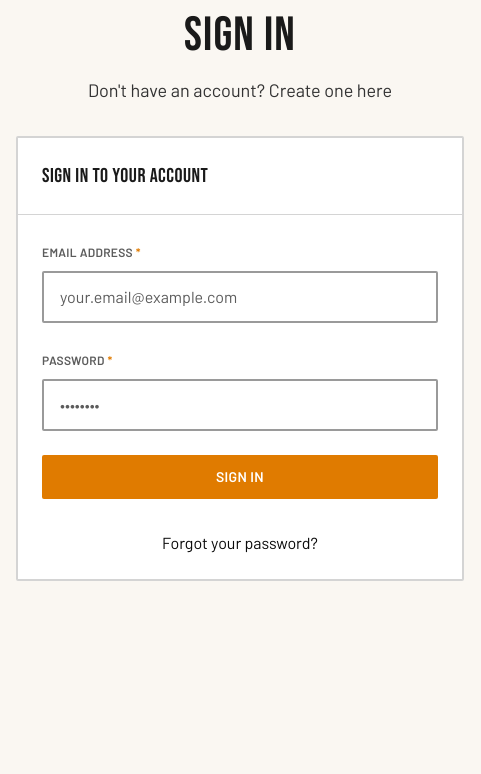
LoginPage › Email Verification › should show email verification error when user is not verified
Type "unverified@example.com" into the field labelled "Email Address *" at [240, 297], box [42, 271, 438, 323]
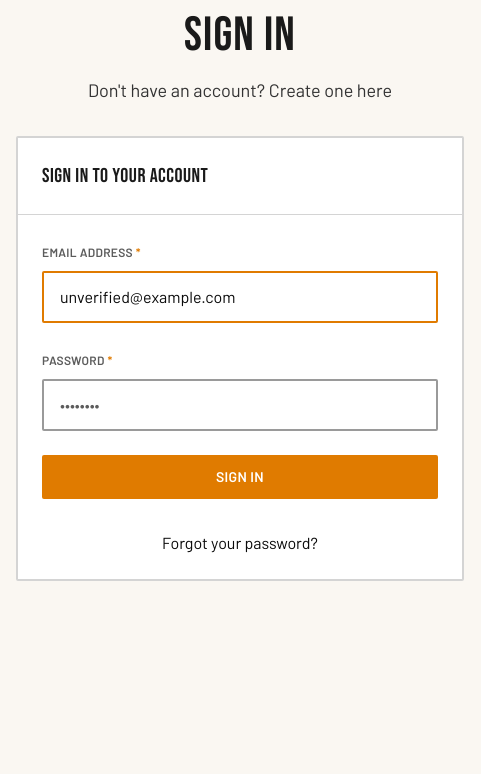
Type "password123" into the password field labelled "Password *" at [240, 405], box [42, 379, 438, 431]
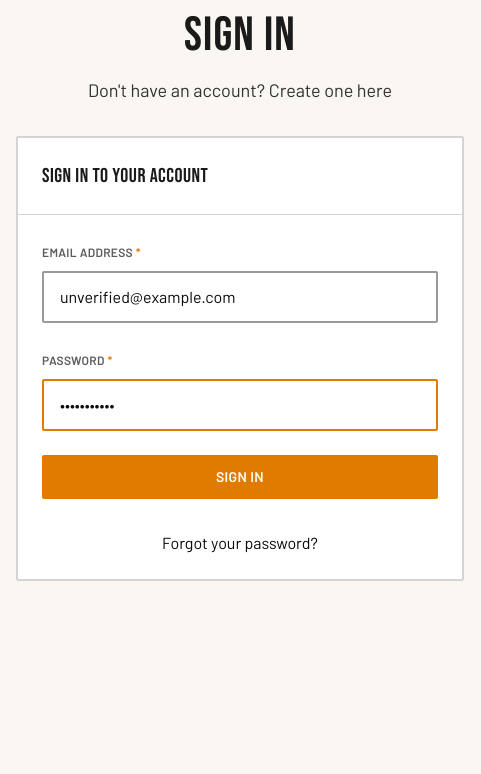
Click the button "Sign In" at [240, 477], box [42, 455, 438, 499]
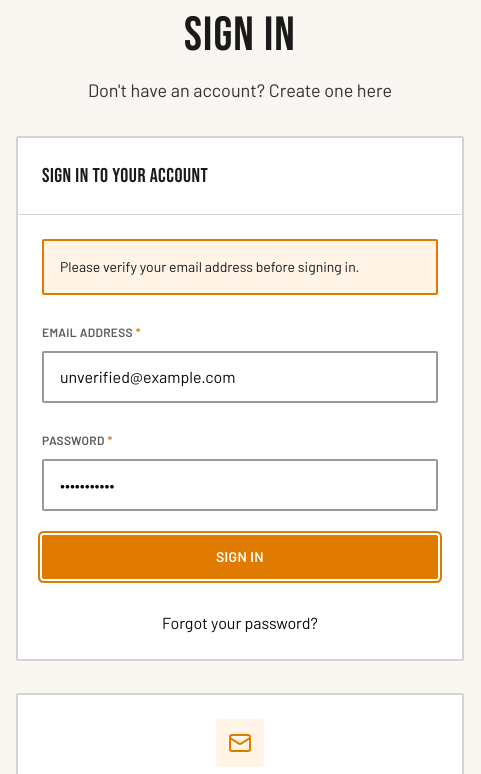
Check: the text "Please verify your email address before signing in." is shown, box [60, 258, 359, 275]
